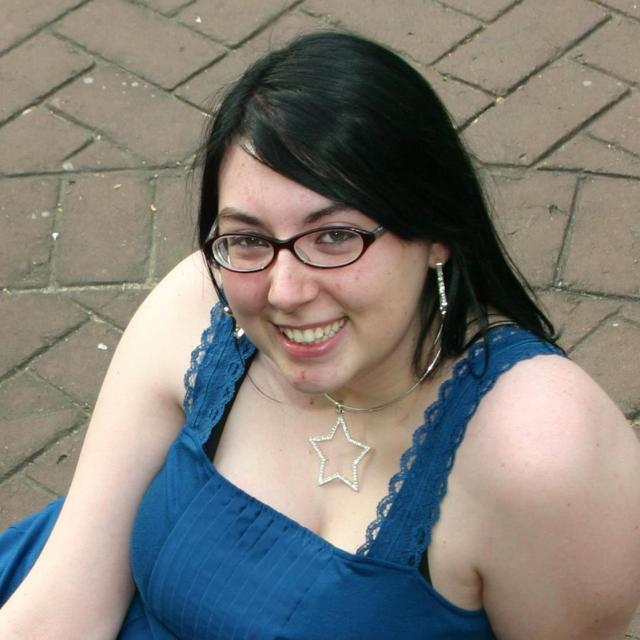no-glass: (223, 225, 355, 256)
